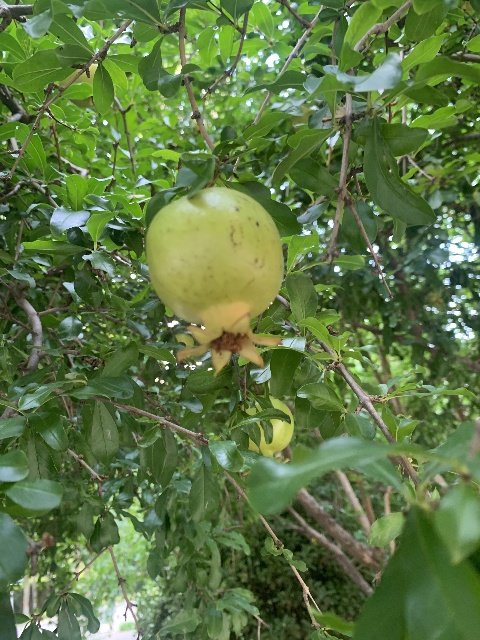mid-growth: (144, 185, 285, 376)
